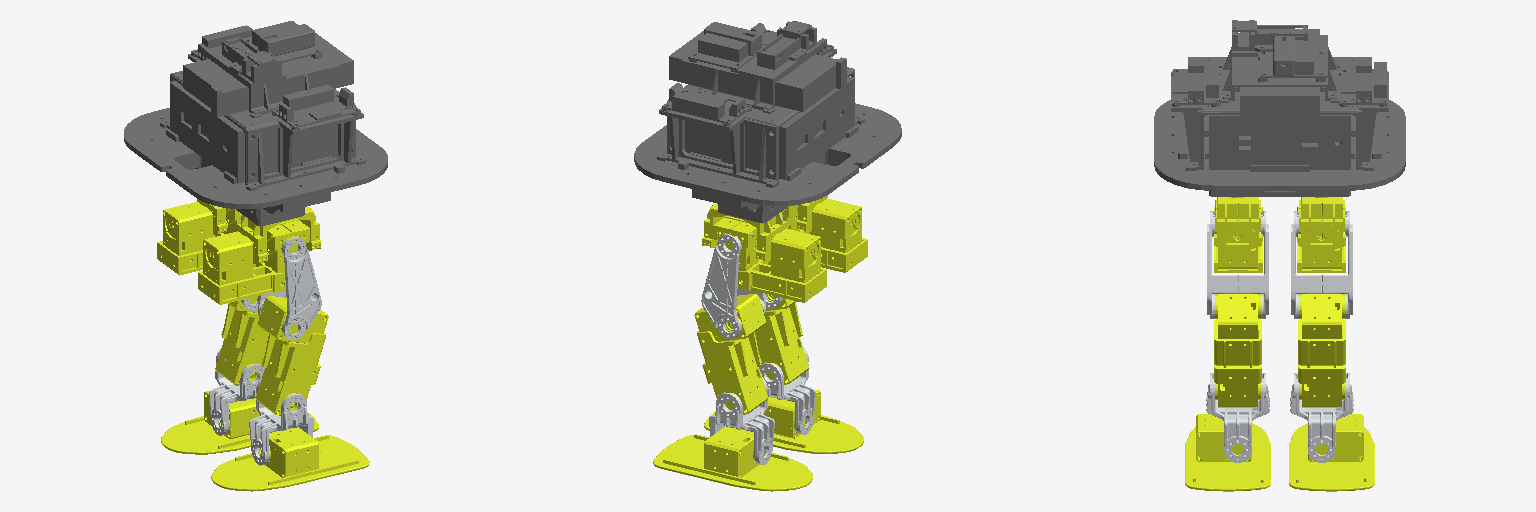
The robot description file, URDF, robot "exhx5_w_b_16":
<?xml version="1.0" encoding="utf-8"?>
<!-- This URDF was automatically created by SolidWorks to URDF Exporter! Originally created by [author] ([email redacted]) 
     Commit Version: 1.5.1-0-g916b5db  Build Version: 1.5.7152.31018
     For more information, please see http://wiki.ros.org/sw_urdf_exporter -->
<robot
  name="exhx5_w_b_16">
  <link
    name="body_link">
    <inertial>
      <origin
        xyz="0.00043545 0.00025536 0.10071"
        rpy="0 0 0" />
      <mass
        value="1.8238" />
      <inertia
        ixx="0.0025905"
        ixy="-5.6852E-06"
        ixz="-1.3106E-05"
        iyy="0.0024595"
        iyz="-1.261E-06"
        izz="0.0046407" />
    </inertial>
    <visual>
      <origin
        xyz="0 0 0"
        rpy="0 0 0" />
      <geometry>
        <mesh
          filename="../meshes/body_link.STL" />
      </geometry>
      <material
        name="">
        <color
          rgba="0.49804 0.49804 0.49804 1" />
      </material>
    </visual>
    <collision>
      <origin
        xyz="0 0 0"
        rpy="0 0 0" />
      <geometry>
        <mesh
          filename="../meshes/body_link.STL" />
      </geometry>
    </collision>
  </link>

  <link
    name="imu_link">
    <inertial>
      <origin
        xyz="-0.008387 1.336E-17 -0.0069463"
        rpy="0 0 0" />
      <mass
        value="0.0062931" />
      <inertia
        ixx="3.2242E-07"
        ixy="3.3527E-22"
        ixz="-6.9193E-08"
        iyy="9.2229E-07"
        iyz="-8.0392E-22"
        izz="1.1018E-06" />
    </inertial>
    <visual>
      <origin
        xyz="0 0 0"
        rpy="0 0 0" />
      <geometry>
        <mesh
          filename="../meshes/imu_link.STL" />
      </geometry>
      <material
        name="">
        <color
          rgba="0.79216 0.81961 0.93333 1" />
      </material>
    </visual>
    <collision>
      <origin
        xyz="0 0 0"
        rpy="0 0 0" />
      <geometry>
        <mesh
          filename="../meshes/imu_link.STL" />
      </geometry>
    </collision>
  </link>
  <joint
    name="imu"
    type="fixed">
    <origin
      xyz="0 0 0.0492"
      rpy="0 0 0" />
    <parent
      link="body_link" />
    <child
      link="imu_link" />
    <axis
      xyz="0 0 0" />
    <limit
      lower="-3.14"
      upper="3.14"
      effort="4"
      velocity="4" />
  </joint>
  <link
    name="l_hip_g_link">
    <inertial>
      <origin
        xyz="-0.0043797 -8.6604E-08 0.011813"
        rpy="0 0 0" />
      <mass
        value="0.061008" />
      <inertia
        ixx="1.167E-05"
        ixy="7.1767E-11"
        ixz="9.1442E-09"
        iyy="2.2342E-05"
        iyz="2.5177E-11"
        izz="2.4892E-05" />
    </inertial>
    <visual>
      <origin
        xyz="0 0 0"
        rpy="0 0 0" />
      <geometry>
        <mesh
          filename="../meshes/l_hip_g_link.STL" />
      </geometry>
      <material
        name="">
        <color
          rgba="0.9451 1 0.18431 1" />
      </material>
    </visual>
    <collision>
      <origin
        xyz="0 0 0"
        rpy="0 0 0" />
      <geometry>
        <mesh
          filename="../meshes/l_hip_g_link.STL" />
      </geometry>
    </collision>
  </link>
  <joint
    name="l_hip_g"
    type="fixed">
    <origin
      xyz=".001 .035 0"
      rpy="0 0 0" />
    <parent
      link="body_link" />
    <child
      link="l_hip_g_link" />
    <axis
      xyz="0 0 0" />
  </joint>
  <link
    name="l_hip_roll_link">
    <inertial>
      <origin
        xyz="0.013831 0.00033457 0.025453"
        rpy="0 0 0" />
      <mass
        value="0.2969" />
      <inertia
        ixx="7.8136E-05"
        ixy="7.265E-07"
        ixz="-6.9809E-08"
        iyy="9.2183E-05"
        iyz="-5.6881E-11"
        izz="7.1034E-05" />
    </inertial>
    <visual>
      <origin
        xyz="0 0 0"
        rpy="0 0 0" />
      <geometry>
        <mesh
          filename="../meshes/l_hip_roll_link.STL" />
      </geometry>
      <material
        name="">
        <color
          rgba="0.9451 1 0.18431 1" />
      </material>
    </visual>
    <collision>
      <origin
        xyz="0 0 0"
        rpy="0 0 0" />
      <geometry>
        <mesh
          filename="../meshes/l_hip_roll_link.STL" />
      </geometry>
    </collision>
  </link>
  <joint
    name="l_hip_roll"
    type="revolute">
    <origin
      xyz="0 0 0"
      rpy="3.1416 1.5708 0" />
    <parent
      link="l_hip_g_link" />
    <child
      link="l_hip_roll_link" />
    <axis
      xyz="0 0 1" />
    <limit
      lower="-3.14"
      upper="3.14"
      effort="4"
      velocity="4" />
  </joint>
  <link
    name="l_hip_pitch_link">
    <inertial>
      <origin
        xyz="0.041225 -0.007321 -5.0713E-08"
        rpy="0 0 0" />
      <mass
        value="0.051592" />
      <inertia
        ixx="2.7959E-05"
        ixy="2.0752E-06"
        ixz="-8.0934E-11"
        iyy="4.8156E-05"
        iyz="3.6317E-11"
        izz="2.9604E-05" />
    </inertial>
    <visual>
      <origin
        xyz="0 0 0"
        rpy="0 0 0" />
      <geometry>
        <mesh
          filename="../meshes/l_hip_pitch_link.STL" />
      </geometry>
      <material
        name="">
        <color
          rgba="0.89804 0.91765 0.92941 1" />
      </material>
    </visual>
    <collision>
      <origin
        xyz="0 0 0"
        rpy="0 0 0" />
      <geometry>
        <mesh
          filename="../meshes/l_hip_pitch_link.STL" />
      </geometry>
    </collision>
  </link>
  <joint
    name="l_hip_pitch"
    type="revolute">
    <origin
      xyz="0 0 0"
      rpy="1.5708 0 0" />
    <parent
      link="l_hip_roll_link" />
    <child
      link="l_hip_pitch_link" />
    <axis
      xyz="0 0 1" />
    <limit
      lower="-3.14"
      upper="3.14"
      effort="4"
      velocity="4" />
  </joint>
  <link
    name="l_knee_link">
    <inertial>
      <origin
        xyz="0.033756 -0.0084189 -6.6115E-09"
        rpy="0 0 0" />
      <mass
        value="0.28878" />
      <inertia
        ixx="6.6724E-05"
        ixy="7.5004E-07"
        ixz="-8.4578E-07"
        iyy="6.5699E-05"
        iyz="4.1085E-07"
        izz="7.0381E-05" />
    </inertial>
    <visual>
      <origin
        xyz="0 0 0"
        rpy="0 0 0" />
      <geometry>
        <mesh
          filename="../meshes/l_knee_link.STL" />
      </geometry>
      <material
        name="">
        <color
          rgba="0.9451 1 0.18431 1" />
      </material>
    </visual>
    <collision>
      <origin
        xyz="0 0 0"
        rpy="0 0 0" />
      <geometry>
        <mesh
          filename="../meshes/l_knee_link.STL" />
      </geometry>
    </collision>
  </link>
  <joint
    name="l_knee"
    type="revolute">
    <origin
      xyz="0.075954 0 0"
      rpy="0 0 0" />
    <parent
      link="l_hip_pitch_link" />
    <child
      link="l_knee_link" />
    <axis
      xyz="0 0 1" />
    <limit
      lower="-3.14"
      upper="3.14"
      effort="4"
      velocity="4" />
  </joint>
  <link
    name="l_ank_pitch_link">
    <inertial>
      <origin
        xyz="0.022786 -7.3909E-09 -7.1981E-06"
        rpy="0 0 0" />
      <mass
        value="0.044772" />
      <inertia
        ixx="1.777E-05"
        ixy="8.555E-14"
        ixz="-3.3713E-09"
        iyy="1.7119E-05"
        iyz="1.7593E-11"
        izz="1.8661E-05" />
    </inertial>
    <visual>
      <origin
        xyz="0 0 0"
        rpy="0 0 0" />
      <geometry>
        <mesh
          filename="../meshes/l_ank_pitch_link.STL" />
      </geometry>
      <material
        name="">
        <color
          rgba="0.89804 0.91765 0.92941 1" />
      </material>
    </visual>
    <collision>
      <origin
        xyz="0 0 0"
        rpy="0 0 0" />
      <geometry>
        <mesh
          filename="../meshes/l_ank_pitch_link.STL" />
      </geometry>
    </collision>
  </link>
  <joint
    name="l_ank_pitch"
    type="revolute">
    <origin
      xyz="0.074602 0 0"
      rpy="3.1416 0 0" />
    <parent
      link="l_knee_link" />
    <child
      link="l_ank_pitch_link" />
    <axis
      xyz="0 0 1" />
    <limit
      lower="-3.14"
      upper="3.14"
      effort="4"
      velocity="4" />
  </joint>
  <link
    name="l_ank_roll_link">
    <inertial>
      <origin
        xyz="0.0047069 0.010728 0.0015299"
        rpy="0 0 0" />
      <mass
        value="0.16774" />
      <inertia
        ixx="0.00012039"
        ixy="-3.7428E-09"
        ixz="4.4069E-08"
        iyy="8.7735E-05"
        iyz="7.0469E-07"
        izz="4.7866E-05" />
    </inertial>
    <visual>
      <origin
        xyz="0 0 0"
        rpy="0 0 0" />
      <geometry>
        <mesh
          filename="../meshes/l_ank_roll_link.STL" />
      </geometry>
      <material
        name="">
        <color
          rgba="0.9451 1 0.18431 1" />
      </material>
    </visual>
    <collision>
      <origin
        xyz="0 0 0"
        rpy="0 0 0" />
      <geometry>
        <mesh
          filename="../meshes/l_ank_roll_link.STL" />
      </geometry>
    </collision>
  </link>
  <joint
    name="l_ank_roll"
    type="revolute">
    <origin
      xyz="0.0465 0 0"
      rpy="-1.5708 0 0" />
    <parent
      link="l_ank_pitch_link" />
    <child
      link="l_ank_roll_link" />
    <axis
      xyz="0 0 1" />
    <limit
      lower="-3.14"
      upper="3.14"
      effort="4"
      velocity="4" />
  </joint>
  <link
    name="r_hip_g_link">
    <inertial>
      <origin
        xyz="-0.0043797 -8.6604E-08 0.011813"
        rpy="0 0 0" />
      <mass
        value="0.061008" />
      <inertia
        ixx="1.167E-05"
        ixy="7.1767E-11"
        ixz="9.1442E-09"
        iyy="2.2342E-05"
        iyz="2.5177E-11"
        izz="2.4892E-05" />
    </inertial>
    <visual>
      <origin
        xyz="0 0 0"
        rpy="0 0 0" />
      <geometry>
        <mesh
          filename="../meshes/r_hip_g_link.STL" />
      </geometry>
      <material
        name="">
        <color
          rgba="0.9451 1 0.18431 1" />
      </material>
    </visual>
    <collision>
      <origin
        xyz="0 0 0"
        rpy="0 0 0" />
      <geometry>
        <mesh
          filename="../meshes/r_hip_g_link.STL" />
      </geometry>
    </collision>
  </link>
  <joint
    name="r_hip_g"
    type="fixed">
    <origin
      xyz=".001 -.035 0"
      rpy="0 0 0" />
    <parent
      link="body_link" />
    <child
      link="r_hip_g_link" />
    <axis
      xyz="0 0 0" />
  </joint>
  <link
    name="r_hip_roll_link">
    <inertial>
      <origin
        xyz="0.013831 0.00033457 0.025453"
        rpy="0 0 0" />
      <mass
        value="0.2969" />
      <inertia
        ixx="7.8136E-05"
        ixy="7.265E-07"
        ixz="-6.9809E-08"
        iyy="9.2183E-05"
        iyz="-5.6881E-11"
        izz="7.1034E-05" />
    </inertial>
    <visual>
      <origin
        xyz="0 0 0"
        rpy="0 0 0" />
      <geometry>
        <mesh
          filename="../meshes/r_hip_roll_link.STL" />
      </geometry>
      <material
        name="">
        <color
          rgba="0.9451 1 0.18431 1" />
      </material>
    </visual>
    <collision>
      <origin
        xyz="0 0 0"
        rpy="0 0 0" />
      <geometry>
        <mesh
          filename="../meshes/r_hip_roll_link.STL" />
      </geometry>
    </collision>
  </link>
  <joint
    name="r_hip_roll"
    type="revolute">
    <origin
      xyz="0 0 0"
      rpy="3.1416 1.5708 0" />
    <parent
      link="r_hip_g_link" />
    <child
      link="r_hip_roll_link" />
    <axis
      xyz="0 0 1" />
    <limit
      lower="-3.14"
      upper="3.14"
      effort="4"
      velocity="4" />
  </joint>
  <link
    name="r_hip_pitch_link">
    <inertial>
      <origin
        xyz="0.041225 0.007321 5.0713E-08"
        rpy="0 0 0" />
      <mass
        value="0.051592" />
      <inertia
        ixx="2.7959E-05"
        ixy="-2.0752E-06"
        ixz="8.0934E-11"
        iyy="4.8156E-05"
        iyz="3.6317E-11"
        izz="2.9604E-05" />
    </inertial>
    <visual>
      <origin
        xyz="0 0 0"
        rpy="0 0 0" />
      <geometry>
        <mesh
          filename="../meshes/r_hip_pitch_link.STL" />
      </geometry>
      <material
        name="">
        <color
          rgba="0.89804 0.91765 0.92941 1" />
      </material>
    </visual>
    <collision>
      <origin
        xyz="0 0 0"
        rpy="0 0 0" />
      <geometry>
        <mesh
          filename="../meshes/r_hip_pitch_link.STL" />
      </geometry>
    </collision>
  </link>
  <joint
    name="r_hip_pitch"
    type="revolute">
    <origin
      xyz="0 0 0"
      rpy="-1.5708 0 0" />
    <parent
      link="r_hip_roll_link" />
    <child
      link="r_hip_pitch_link" />
    <axis
      xyz="0 0 1" />
    <limit
      lower="-3.14"
      upper="3.14"
      effort="4"
      velocity="4" />
  </joint>
  <link
    name="r_knee_link">
    <inertial>
      <origin
        xyz="0.033757 0.0084176 6.6115E-09"
        rpy="0 0 0" />
      <mass
        value="0.28878" />
      <inertia
        ixx="6.6724E-05"
        ixy="-7.5008E-07"
        ixz="8.458E-07"
        iyy="6.5699E-05"
        iyz="4.1081E-07"
        izz="7.0381E-05" />
    </inertial>
    <visual>
      <origin
        xyz="0 0 0"
        rpy="0 0 0" />
      <geometry>
        <mesh
          filename="../meshes/r_knee_link.STL" />
      </geometry>
      <material
        name="">
        <color
          rgba="0.9451 1 0.18431 1" />
      </material>
    </visual>
    <collision>
      <origin
        xyz="0 0 0"
        rpy="0 0 0" />
      <geometry>
        <mesh
          filename="../meshes/r_knee_link.STL" />
      </geometry>
    </collision>
  </link>
  <joint
    name="r_knee"
    type="revolute">
    <origin
      xyz="0.075954 0 0"
      rpy="0 0 0" />
    <parent
      link="r_hip_pitch_link" />
    <child
      link="r_knee_link" />
    <axis
      xyz="0 0 1" />
    <limit
      lower="-3.14"
      upper="3.14"
      effort="4"
      velocity="4" />
  </joint>
  <link
    name="r_ank_pitch_link">
    <inertial>
      <origin
        xyz="0.025786 -7.3887E-09 -7.1981E-06"
        rpy="0 0 0" />
      <mass
        value="0.044772" />
      <inertia
        ixx="1.777E-05"
        ixy="8.5434E-14"
        ixz="-3.3713E-09"
        iyy="1.7119E-05"
        iyz="1.7592E-11"
        izz="1.8661E-05" />
    </inertial>
    <visual>
      <origin
        xyz="0 0 0"
        rpy="0 0 0" />
      <geometry>
        <mesh
          filename="../meshes/r_ank_pitch_link.STL" />
      </geometry>
      <material
        name="">
        <color
          rgba="0.89804 0.91765 0.92941 1" />
      </material>
    </visual>
    <collision>
      <origin
        xyz="0 0 0"
        rpy="0 0 0" />
      <geometry>
        <mesh
          filename="../meshes/r_ank_pitch_link.STL" />
      </geometry>
    </collision>
  </link>
  <joint
    name="r_ank_pitch"
    type="revolute">
    <origin
      xyz="0.071602 0 0"
      rpy="3.1416 0 0" />
    <parent
      link="r_knee_link" />
    <child
      link="r_ank_pitch_link" />
    <axis
      xyz="0 0 1" />
    <limit
      lower="-3.14"
      upper="3.14"
      effort="4"
      velocity="4" />
  </joint>
  <link
    name="r_ank_roll_link">
    <inertial>
      <origin
        xyz="0.0077069 -0.010728 0.0015299"
        rpy="0 0 0" />
      <mass
        value="0.16774" />
      <inertia
        ixx="0.00012039"
        ixy="3.743E-09"
        ixz="4.407E-08"
        iyy="8.7735E-05"
        iyz="-7.0467E-07"
        izz="4.7866E-05" />
    </inertial>
    <visual>
      <origin
        xyz="0 0 0"
        rpy="0 0 0" />
      <geometry>
        <mesh
          filename="../meshes/r_ank_roll_link.STL" />
      </geometry>
      <material
        name="">
        <color
          rgba="0.9451 1 0.18431 1" />
      </material>
    </visual>
    <collision>
      <origin
        xyz="0 0 0"
        rpy="0 0 0" />
      <geometry>
        <mesh
          filename="../meshes/r_ank_roll_link.STL" />
      </geometry>
    </collision>
  </link>
  <joint
    name="r_ank_roll"
    type="revolute">
    <origin
      xyz="0.0465 0 0"
      rpy="1.5708 0 0" />
    <parent
      link="r_ank_pitch_link" />
    <child
      link="r_ank_roll_link" />
    <axis
      xyz="0 0 1" />
    <limit
      lower="-3.14"
      upper="3.14"
      effort="4"
      velocity="4" />
  </joint>
  <transmission name="r_hip_roll_tran">
    <type>transmission_interface/SimpleTransmission</type>
    <joint name="r_hip_roll">
      <hardwareInterface>hardware_interface/EffortJointInterface</hardwareInterface>
    </joint>
    <actuator name="r_hip_roll_motor">
      <hardwareInterface>hardware_interface/EffortJointInterface</hardwareInterface>
      <mechanicalReduction>1</mechanicalReduction>
    </actuator>
  </transmission>
  <transmission name="r_hip_pitch_tran">
    <type>transmission_interface/SimpleTransmission</type>
    <joint name="r_hip_pitch">
      <hardwareInterface>hardware_interface/EffortJointInterface</hardwareInterface>
    </joint>
    <actuator name="r_hip_pitch_motor">
      <hardwareInterface>hardware_interface/EffortJointInterface</hardwareInterface>
      <mechanicalReduction>1</mechanicalReduction>
    </actuator>
  </transmission>
  <transmission name="r_knee_tran">
    <type>transmission_interface/SimpleTransmission</type>
    <joint name="r_knee">
      <hardwareInterface>hardware_interface/EffortJointInterface</hardwareInterface>
    </joint>
    <actuator name="r_knee_motor">
      <hardwareInterface>hardware_interface/EffortJointInterface</hardwareInterface>
      <mechanicalReduction>1</mechanicalReduction>
    </actuator>
  </transmission>
  <transmission name="r_ank_pitch_tran">
    <type>transmission_interface/SimpleTransmission</type>
    <joint name="r_ank_pitch">
      <hardwareInterface>hardware_interface/EffortJointInterface</hardwareInterface>
    </joint>
    <actuator name="r_ank_pitch_motor">
      <hardwareInterface>hardware_interface/EffortJointInterface</hardwareInterface>
      <mechanicalReduction>1</mechanicalReduction>
    </actuator>
  </transmission>
  <transmission name="r_ank_roll_tran">
    <type>transmission_interface/SimpleTransmission</type>
    <joint name="r_ank_roll">
      <hardwareInterface>hardware_interface/EffortJointInterface</hardwareInterface>
    </joint>
    <actuator name="r_ank_roll_motor">
      <hardwareInterface>hardware_interface/EffortJointInterface</hardwareInterface>
      <mechanicalReduction>1</mechanicalReduction>
    </actuator>
  </transmission>
  <transmission name="l_hip_roll_tran">
    <type>transmission_interface/SimpleTransmission</type>
    <joint name="l_hip_roll">
      <hardwareInterface>hardware_interface/EffortJointInterface</hardwareInterface>
    </joint>
    <actuator name="l_hip_roll_motor">
      <hardwareInterface>hardware_interface/EffortJointInterface</hardwareInterface>
      <mechanicalReduction>1</mechanicalReduction>
    </actuator>
  </transmission>
  <transmission name="l_hip_pitch_tran">
    <type>transmission_interface/SimpleTransmission</type>
    <joint name="l_hip_pitch">
      <hardwareInterface>hardware_interface/EffortJointInterface</hardwareInterface>
    </joint>
    <actuator name="l_hip_pitch_motor">
      <hardwareInterface>hardware_interface/EffortJointInterface</hardwareInterface>
      <mechanicalReduction>1</mechanicalReduction>
    </actuator>
  </transmission>
  <transmission name="l_knee_tran">
    <type>transmission_interface/SimpleTransmission</type>
    <joint name="l_knee">
      <hardwareInterface>hardware_interface/EffortJointInterface</hardwareInterface>
    </joint>
    <actuator name="l_knee_motor">
      <hardwareInterface>hardware_interface/EffortJointInterface</hardwareInterface>
      <mechanicalReduction>1</mechanicalReduction>
    </actuator>
  </transmission>
  <transmission name="l_ank_pitch_tran">
    <type>transmission_interface/SimpleTransmission</type>
    <joint name="l_ank_pitch">
      <hardwareInterface>hardware_interface/EffortJointInterface</hardwareInterface>
    </joint>
    <actuator name="l_ank_pitch_motor">
      <hardwareInterface>hardware_interface/EffortJointInterface</hardwareInterface>
      <mechanicalReduction>1</mechanicalReduction>
    </actuator>
  </transmission>
  <transmission name="l_ank_roll_tran">
    <type>transmission_interface/SimpleTransmission</type>
    <joint name="l_ank_roll">
      <hardwareInterface>hardware_interface/EffortJointInterface</hardwareInterface>
    </joint>
    <actuator name="l_ank_roll_motor">
      <hardwareInterface>hardware_interface/EffortJointInterface</hardwareInterface>
      <mechanicalReduction>1</mechanicalReduction>
    </actuator>
  </transmission>
</robot>

--- What the picture shows (computed from the rendered views, not written in the file) ---
The picture shows the robot from 3 angles, left to right: view 1: azimuth 30°, elevation 25°; view 2: azimuth 150°, elevation 25°; view 3: azimuth 270°, elevation 25°; orthographic projection.
Model exhx5_w_b_16 with 14 links and 13 joints (10 revolute, 3 fixed), rooted at body_link, posed every joint at zero.
Visible links, largest first — view 1: body_link, r_ank_roll_link, r_hip_roll_link, r_knee_link, l_hip_roll_link, l_ank_roll_link, r_hip_pitch_link, l_knee_link, r_ank_pitch_link, l_ank_pitch_link, r_hip_g_link; view 2: body_link, l_ank_roll_link, l_hip_roll_link, l_knee_link, r_hip_roll_link, r_ank_roll_link, l_hip_pitch_link, r_knee_link, l_ank_pitch_link, r_ank_pitch_link, l_hip_g_link; view 3: body_link, l_knee_link, r_knee_link, l_ank_roll_link, r_ank_roll_link, l_hip_pitch_link, r_hip_pitch_link, l_hip_g_link, r_hip_g_link, l_ank_pitch_link, r_ank_pitch_link, l_hip_roll_link (+1 smaller).
Link boxes in pixels (x1=…): body_link: x1=124, y1=21, x2=387, y2=250; r_ank_roll_link: x1=211, y1=427, x2=369, y2=491; r_hip_roll_link: x1=198, y1=219, x2=309, y2=304; r_knee_link: x1=256, y1=296, x2=328, y2=415; l_hip_roll_link: x1=157, y1=202, x2=242, y2=275; l_ank_roll_link: x1=161, y1=391, x2=318, y2=454; r_hip_pitch_link: x1=257, y1=237, x2=321, y2=340; l_knee_link: x1=215, y1=296, x2=268, y2=385; r_ank_pitch_link: x1=249, y1=378, x2=313, y2=465; l_ank_pitch_link: x1=209, y1=349, x2=264, y2=435; r_hip_g_link: x1=237, y1=206, x2=320, y2=263; body_link: x1=634, y1=21, x2=901, y2=223; l_ank_roll_link: x1=653, y1=426, x2=812, y2=491; l_hip_roll_link: x1=713, y1=216, x2=826, y2=302; l_knee_link: x1=694, y1=294, x2=767, y2=414; r_hip_roll_link: x1=782, y1=198, x2=867, y2=272; r_ank_roll_link: x1=704, y1=390, x2=863, y2=453; l_hip_pitch_link: x1=701, y1=233, x2=765, y2=338; r_knee_link: x1=755, y1=294, x2=808, y2=384; l_ank_pitch_link: x1=709, y1=377, x2=774, y2=464; r_ank_pitch_link: x1=759, y1=347, x2=815, y2=434; l_hip_g_link: x1=702, y1=203, x2=786, y2=261; body_link: x1=1154, y1=20, x2=1405, y2=196; l_knee_link: x1=1298, y1=294, x2=1345, y2=407; r_knee_link: x1=1214, y1=294, x2=1261, y2=407; l_ank_roll_link: x1=1289, y1=414, x2=1374, y2=491; r_ank_roll_link: x1=1185, y1=414, x2=1270, y2=491; l_hip_pitch_link: x1=1291, y1=211, x2=1352, y2=318; r_hip_pitch_link: x1=1207, y1=211, x2=1268, y2=318; l_hip_g_link: x1=1297, y1=197, x2=1345, y2=247; r_hip_g_link: x1=1214, y1=197, x2=1262, y2=247; l_ank_pitch_link: x1=1290, y1=373, x2=1353, y2=462; r_ank_pitch_link: x1=1206, y1=373, x2=1269, y2=462; l_hip_roll_link: x1=1297, y1=200, x2=1345, y2=272.
Size in the robot's own frame: 0.185 by 0.21 by 0.3893 metres.
Meshes: 14 distinct files referenced, 14 mesh visuals loaded (14 binary STL).